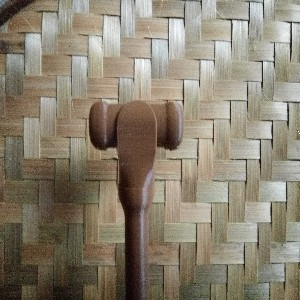palu: (88, 98, 185, 300)
